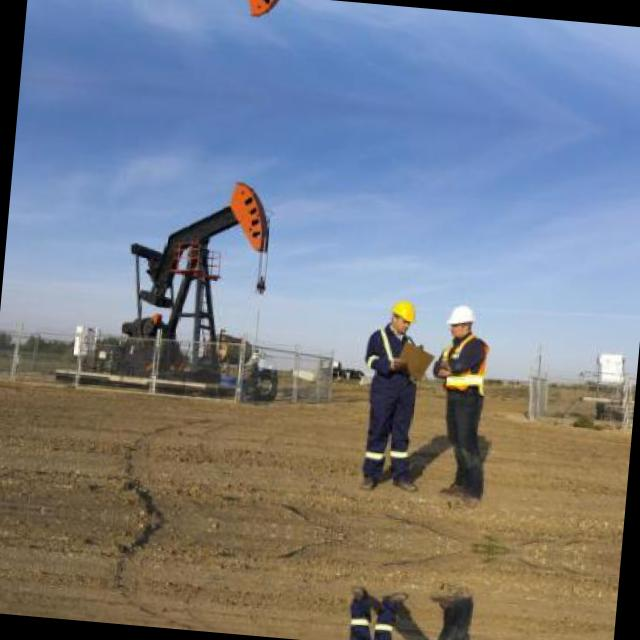helmet: (441, 300, 477, 340), (386, 292, 420, 334)
